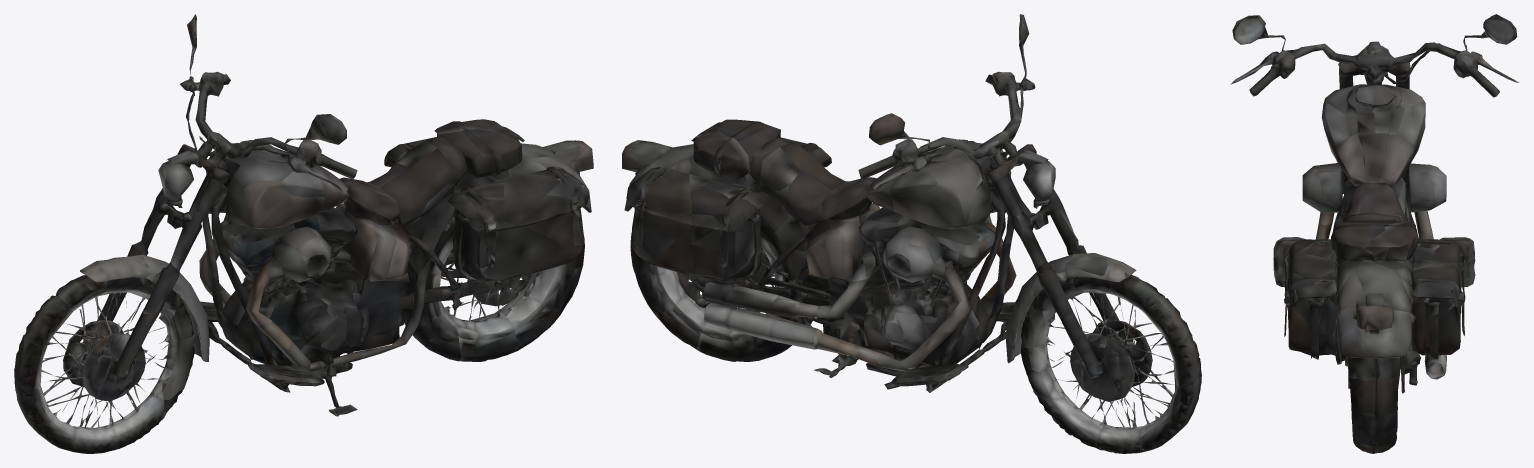
File: car_motorcycle_light_q1.glb
3 renders of one model, left to right at view 1: azimuth 30°, elevation 25°; view 2: azimuth 150°, elevation 25°; view 3: azimuth 270°, elevation 25°, orthographic. The views are drawn at different scales.
Size of the model in its own units: 2.58 by 1.5 by 1.21.
1 material, 1 textured.
